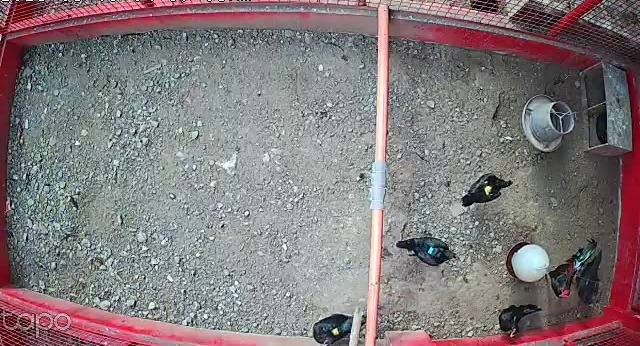Chicken: (395, 231, 458, 270), (308, 307, 369, 346), (462, 169, 513, 211), (572, 247, 604, 312), (496, 301, 543, 342)
Rooster: (543, 239, 598, 299)
Saddle_Color_Yellow: (482, 180, 495, 199)
